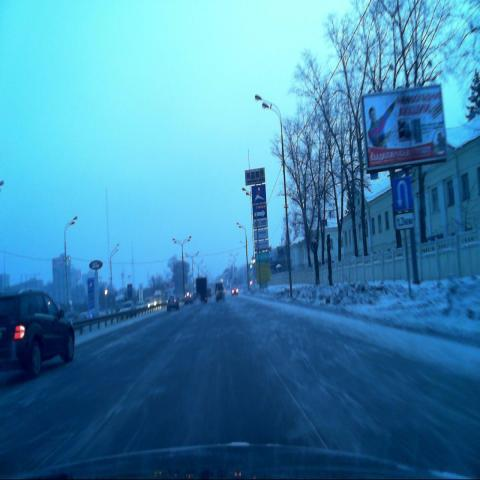6_3_1: (392, 177, 412, 213)
8_1_1: (395, 214, 416, 230)
